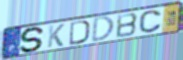B: (115, 12, 140, 40)
C: (138, 9, 163, 34)
D: (91, 15, 116, 44), (69, 19, 91, 46)
K: (46, 23, 66, 49)
S: (19, 26, 47, 53)
